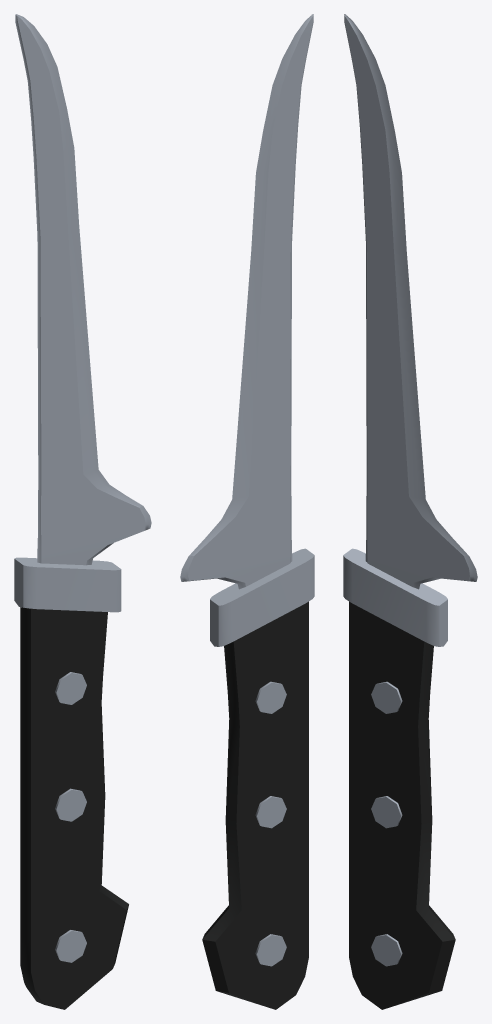
The model's file is Filleting Knife.glb.
3 views of the same model, side by side, from view 1: azimuth 30°, elevation 25°; view 2: azimuth 210°, elevation 25°; view 3: azimuth 330°, elevation 25° (orthographic). The views are drawn at different scales.
Parts seen in each view (by area): view 1: knife_filleting_knife_Cube.007; view 2: knife_filleting_knife_Cube.007; view 3: knife_filleting_knife_Cube.007.
Boxes of the visible parts, x1,y1,x2,y2 form: knife_filleting_knife_Cube.007: (14,14,151,1009); knife_filleting_knife_Cube.007: (180,14,314,1009); knife_filleting_knife_Cube.007: (343,14,477,1009).
Bounding box in the file's own units: 0.7926 × 5.57 × 0.1374.
1 material, 1 textured.
